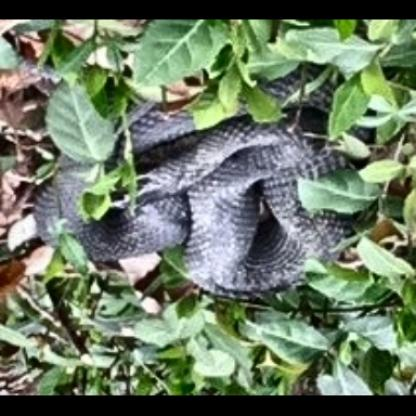Snake: (13, 86, 416, 326)
